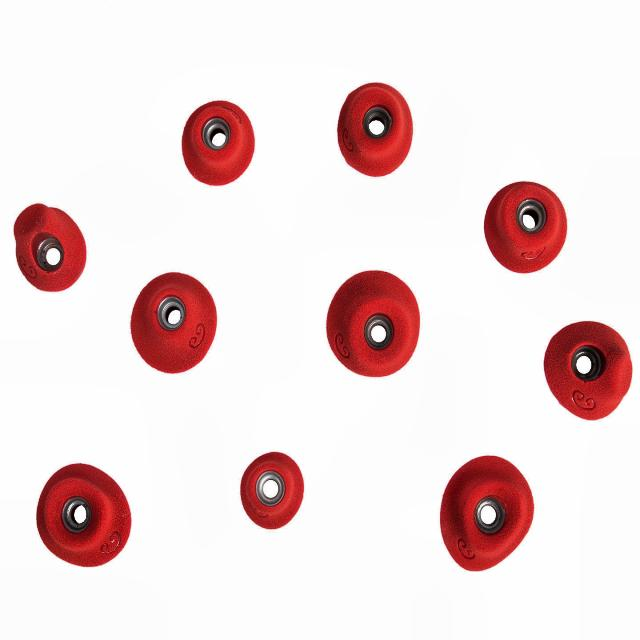Hold: (437, 455, 536, 572), (324, 270, 419, 376), (34, 468, 132, 568), (541, 316, 634, 420), (128, 274, 219, 376), (483, 181, 569, 275), (338, 84, 417, 178), (9, 203, 89, 294), (180, 96, 258, 188), (236, 454, 307, 528)
